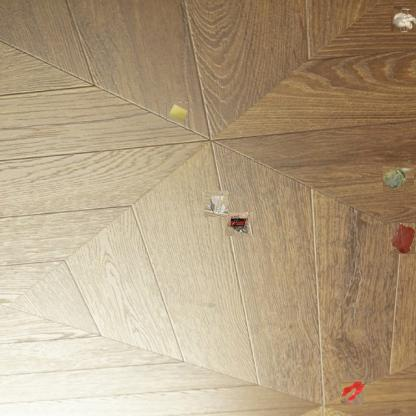dirty: (384, 166, 416, 192), (225, 212, 253, 236), (392, 7, 416, 32), (204, 192, 228, 216), (166, 102, 188, 122)
liquid: (389, 222, 415, 254), (340, 380, 364, 406)
